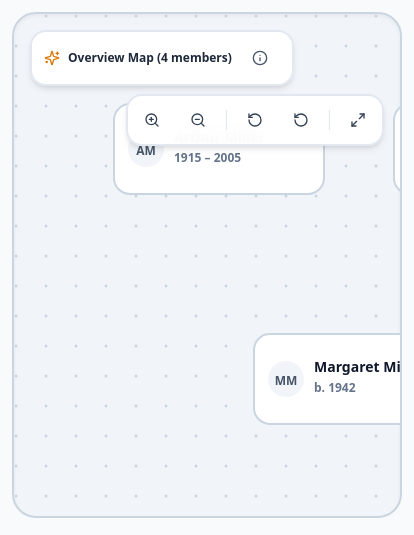
Test case: BirdseyeMapCanvas › Responsive Map Viewport, Fullscreen Mode & Mobile Action Sheet › collapses control bar legend and allows mobile legend disclosure toggle
This screenshot has width=414, height=535.
# Clicking legend toggle reveals legend details
Click the button named "Toggle Map Legend".
click(260, 58)  # box 240,38 -> 280,78
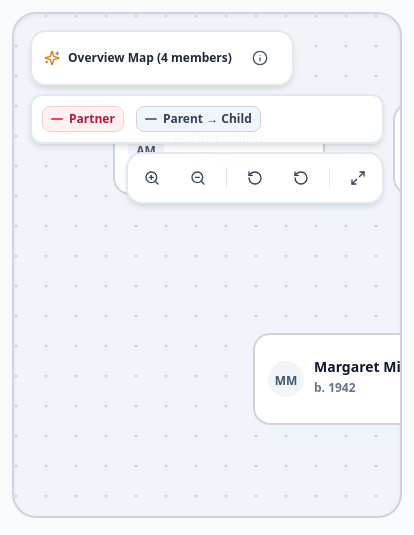
Now the element with test id "mobile-map-legend" is shown, box 30,94 -> 384,144
Now the text "Partner" is shown, box 69,111 -> 115,127
Now the text "Parent → Child" is shown, box 163,111 -> 252,127
